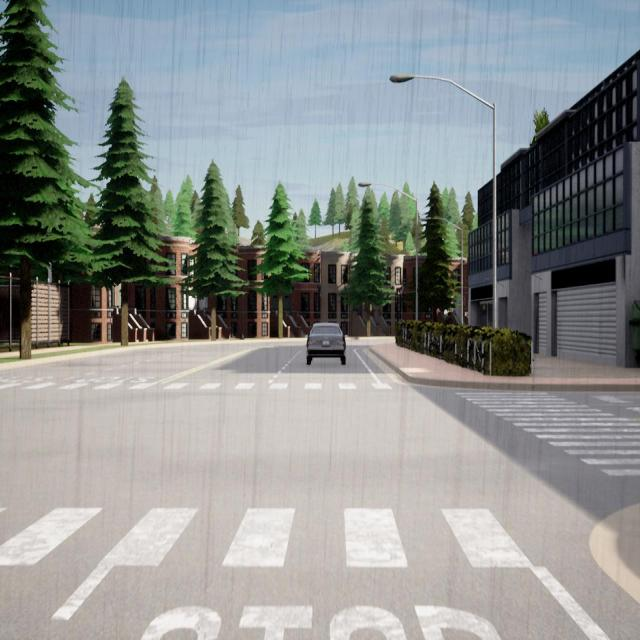Vehicle: (306, 322, 346, 364)
